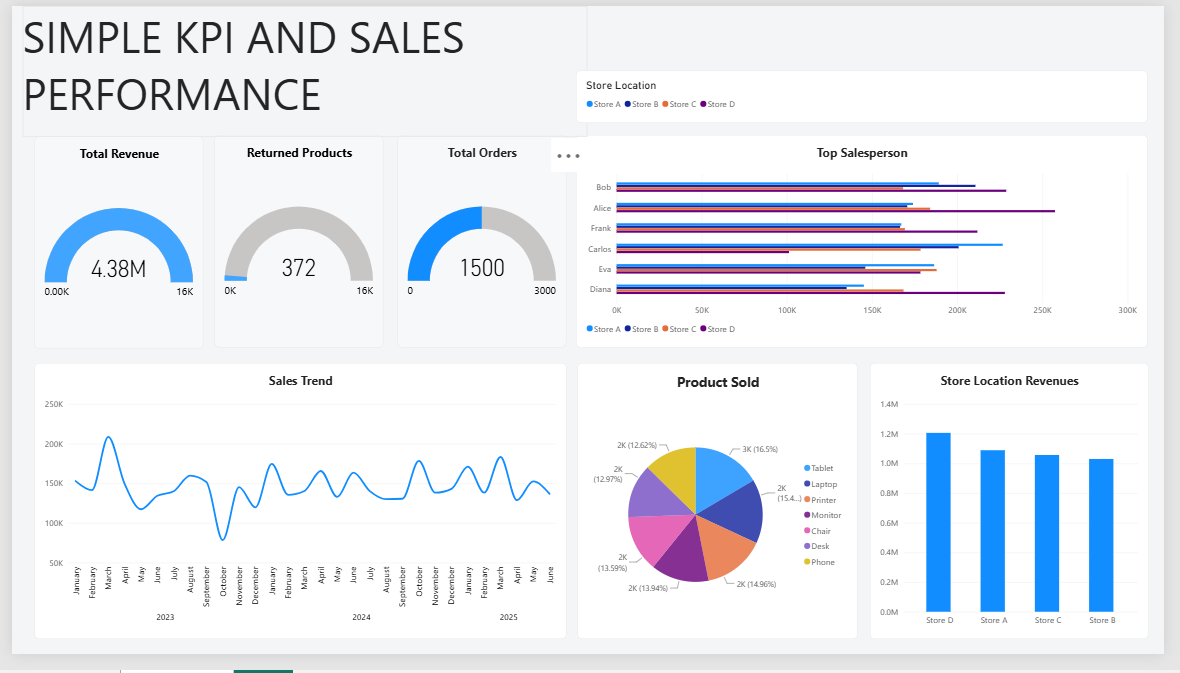

What the dashboard file says about the page in this screenshot:
{"tool":"powerbi","page":{"name":"Page 1","canvas":[1920,1080],"ordinal":0},"visuals":[{"type":"lineChart","title":"Sales Trend ","fields":{"Category":["retail_sales sales.OrderDate.Variation.Date Hierarchy.Year","retail_sales sales.OrderDate.Variation.Date Hierarchy.Month"],"Y":["Sum(retail_sales sales.TotalPrice)"]},"box":[36.7,595,886.7,460],"z":0},{"type":"columnChart","title":"Store Location Revenues ","fields":{"Category":["retail_sales sales.StoreLocation"],"Y":["Sum(retail_sales sales.TotalPrice)"]},"box":[1429.5,595.3,463.9,459.9],"z":1000},{"type":"pieChart","title":"Product Sold","fields":{"Category":["retail_sales sales.Product"],"Y":["Sum(retail_sales sales.Quantity)"]},"box":[941.7,595.3,466.9,459.9],"z":2000},{"type":"clusteredBarChart","title":"Top Salesperson","fields":{"Category":["retail_sales sales.Salesperson"],"Series":["retail_sales sales.StoreLocation"],"Y":["Sum(retail_sales sales.TotalPrice)"]},"box":[940.8,215.9,952.6,354.3],"z":3000},{"type":"gauge","title":"Returned Products","fields":{"MaxValue":["Sum(retail_sales sales.Quantity)"],"Y":["Sum(retail_sales sales.Returned)"]},"box":[337.9,215.9,281.5,354.3],"z":4000},{"type":"gauge","title":"Total Orders","fields":{"Y":["CountNonNull(retail_sales sales.OrderID)"]},"box":[642.9,215.9,281.5,354.3],"z":5000},{"type":"textbox","box":[18,0,943.1,216.6],"z":6000},{"type":"gauge","title":"Total Revenue","fields":{"MaxValue":["Sum(retail_sales sales.Quantity)"],"Y":["Sum(retail_sales sales.TotalPrice)"]},"box":[36.7,216.7,281.5,354.3],"z":7000},{"type":"treemap","fields":{"Group":["retail_sales sales.StoreLocation"]},"box":[940,107.5,952.5,87.5],"z":8000}]}

Visuals, with their boxes in screenshot pixels (x1, y1, x2, y2), scaled from the page's 1920x1080 canvas onto the 1180x673 screenshot:
"Sales Trend " lineChart: x1=23, y1=371, x2=568, y2=657
"Store Location Revenues " columnChart: x1=879, y1=371, x2=1164, y2=658
"Product Sold" pieChart: x1=579, y1=371, x2=866, y2=658
"Top Salesperson" clusteredBarChart: x1=578, y1=135, x2=1164, y2=355
"Returned Products" gauge: x1=208, y1=135, x2=381, y2=355
"Total Orders" gauge: x1=395, y1=135, x2=568, y2=355
textbox: x1=11, y1=0, x2=591, y2=135
"Total Revenue" gauge: x1=23, y1=135, x2=196, y2=356
treemap - retail_sales sales.StoreLocation: x1=578, y1=67, x2=1163, y2=122
